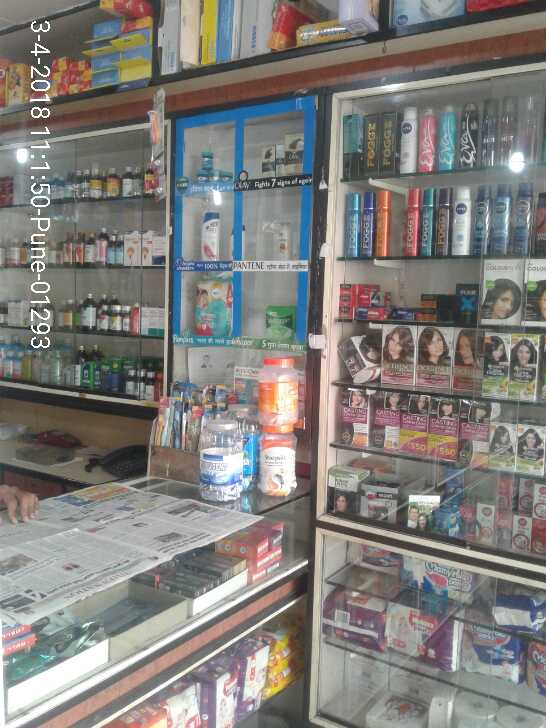oralcare: (155, 382, 201, 451)
vicks: (196, 152, 233, 181)
